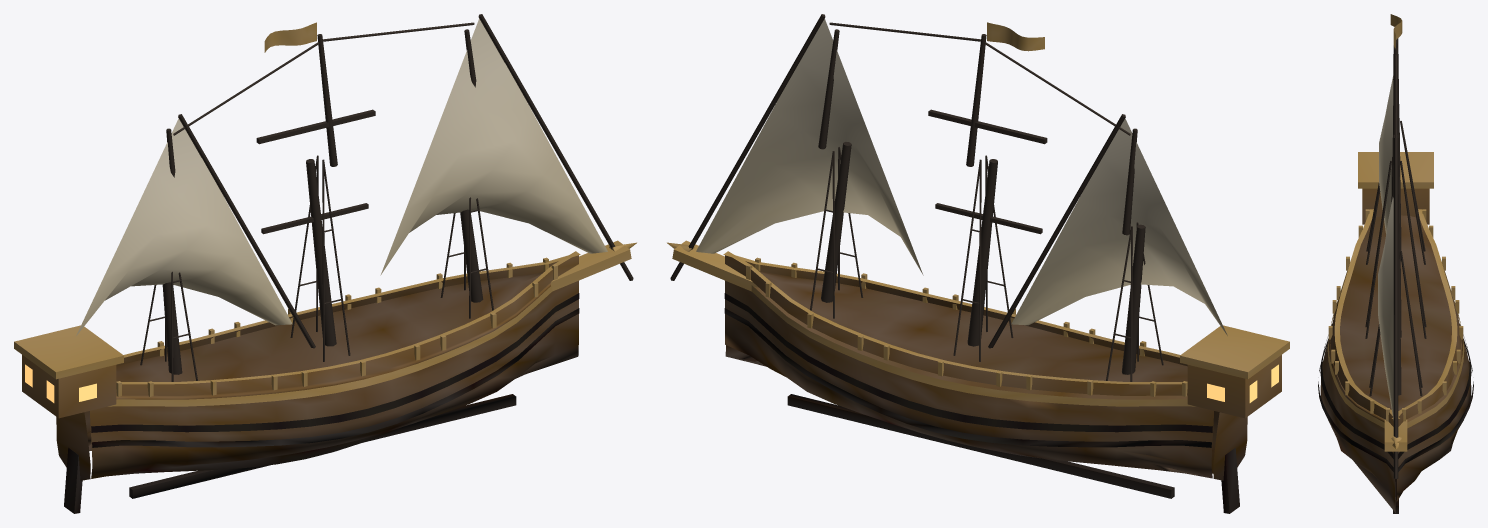
Rendered from garden-hero-xebec.glb.
The picture shows the model from 3 angles, left to right: view 1: azimuth 30°, elevation 25°; view 2: azimuth 150°, elevation 25°; view 3: azimuth 270°, elevation 25°; orthographic projection. The views are drawn at different scales.
Parts seen in each view (by area): view 1: wood-hull, sail-hull, spar-hull; view 2: wood-hull, sail-hull, spar-hull; view 3: wood-hull, spar-hull, sail-hull.
Part boxes in pixels (x1,y1,x2,y2): wood-hull: [14, 22, 636, 513]; sail-hull: [76, 18, 607, 335]; spar-hull: [140, 14, 633, 381]; wood-hull: [667, 22, 1289, 513]; sail-hull: [696, 18, 1227, 335]; spar-hull: [670, 14, 1163, 381]; wood-hull: [1318, 14, 1473, 513]; spar-hull: [1365, 38, 1426, 478]; sail-hull: [1378, 76, 1393, 419].
Size of the model in its own units: 14.15 by 9.64 by 3.48.
